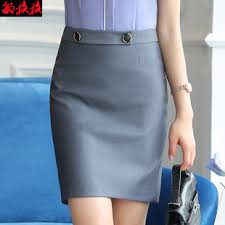F_tailored skirt: (43, 22, 171, 209)
